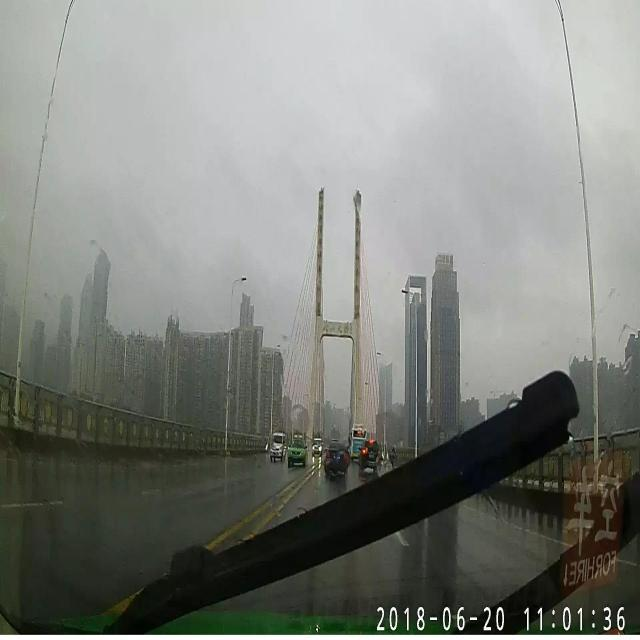car: (325, 439, 348, 475), (358, 438, 379, 471), (288, 435, 308, 468), (270, 431, 284, 458)
